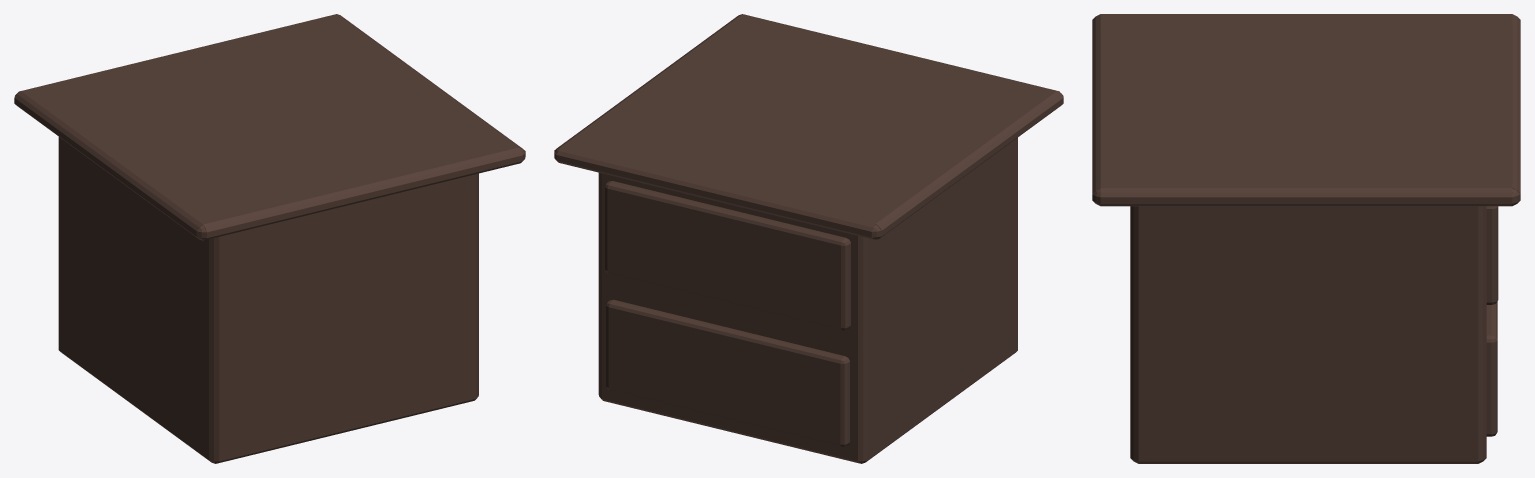
The model's file is nightstand.glb.
3 renders of one model, left to right at view 1: azimuth 30°, elevation 25°; view 2: azimuth 150°, elevation 25°; view 3: azimuth 270°, elevation 25°, orthographic. The views are drawn at different scales.
Parts seen in each view (by area): view 1: LampStand; view 2: LampStand; view 3: LampStand.
Boxes of the visible parts, box(x1,y1,x2,y2) form: LampStand: box(14, 14, 525, 463); LampStand: box(554, 14, 1063, 463); LampStand: box(1092, 14, 1520, 463).
Bounding box in the file's own units: 0.2634 × 0.1983 × 0.2634.
